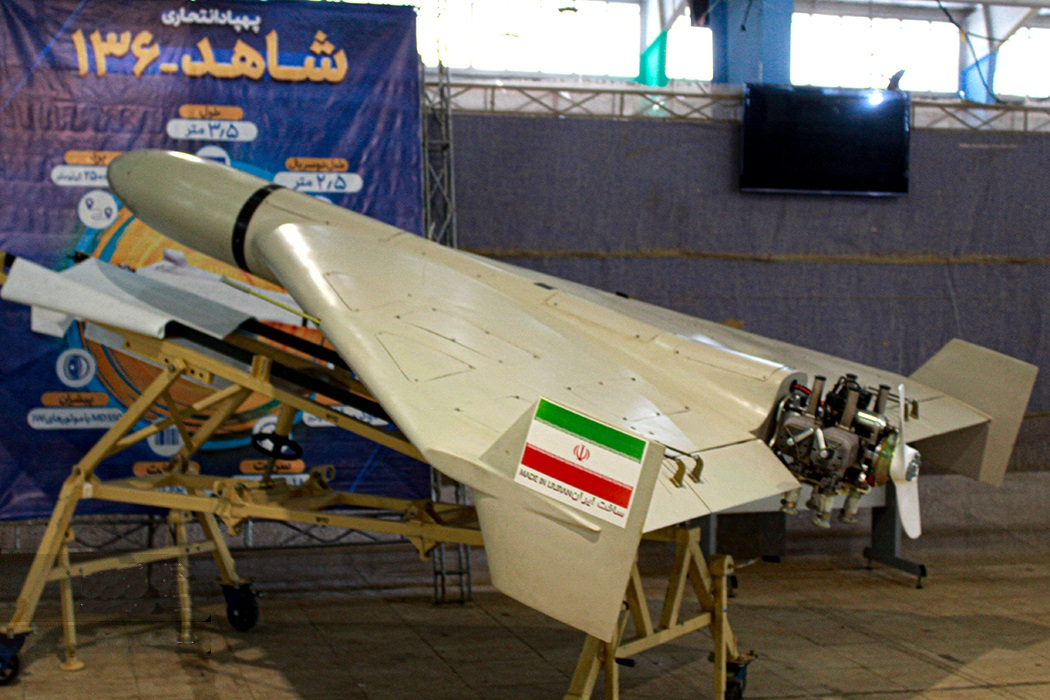shahed: (105, 147, 1043, 641)
